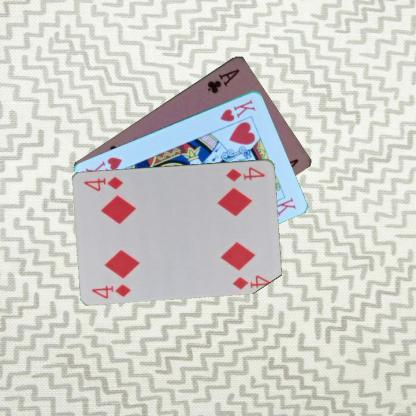4d: (224, 164, 266, 183), (90, 281, 132, 300)
Ac: (203, 66, 241, 96)
Kh: (217, 97, 257, 123)
